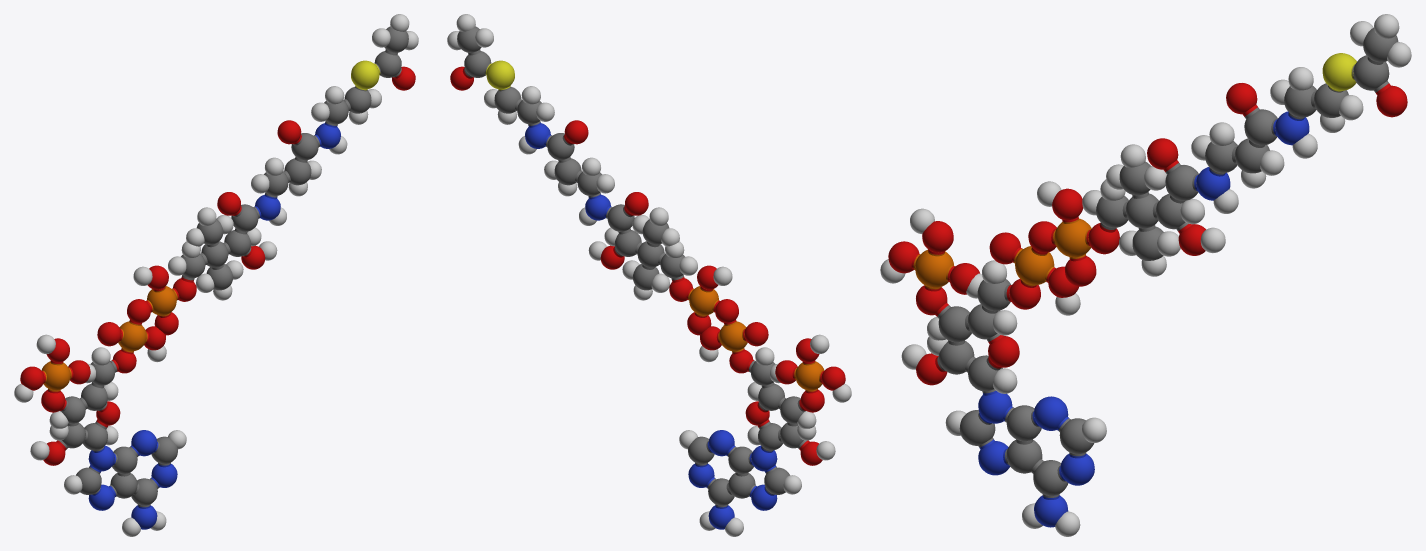
The model's file is molecule.fbx.
The picture shows the model from 3 angles, left to right: view 1: azimuth 30°, elevation 25°; view 2: azimuth 150°, elevation 25°; view 3: azimuth 330°, elevation 25°; orthographic projection. The views are drawn at different scales.
Parts seen in each view (by area): view 1: node_id609, node_id605, node_id607, node_id603, node_id543, node_id511, node_id519, node_id549, node_id513, node_id563, node_id517, node_id535 (+12 smaller); view 2: node_id609, node_id605, node_id607, node_id603, node_id543, node_id511, node_id519, node_id549, node_id513, node_id563, node_id517, node_id535 (+12 smaller); view 3: node_id603, node_id605, node_id607, node_id609, node_id517, node_id525, node_id563, node_id539, node_id543, node_id553, node_id511, node_id527 (+39 smaller).
Part boxes in pixels (box(x1,y1,x2,y2)): node_id609: box(351, 60, 379, 89); node_id605: box(118, 321, 146, 351); node_id607: box(41, 361, 70, 390); node_id603: box(147, 286, 176, 315); node_id543: box(112, 446, 137, 473); node_id511: box(374, 51, 401, 77); node_id519: box(284, 158, 311, 185); node_id549: box(81, 383, 107, 410); node_id513: box(344, 87, 371, 113); node_id563: box(131, 430, 157, 456); node_id517: box(291, 133, 318, 160); node_id535: box(224, 230, 251, 256); node_id609: box(486, 60, 514, 89); node_id605: box(719, 321, 747, 351); node_id607: box(795, 361, 824, 390); node_id603: box(689, 286, 718, 315); node_id543: box(728, 446, 753, 473); node_id511: box(464, 51, 491, 77); node_id519: box(554, 158, 581, 185); node_id549: box(758, 383, 784, 410); node_id513: box(494, 87, 521, 113); node_id563: box(708, 430, 734, 456); node_id517: box(547, 133, 574, 160); node_id535: box(614, 230, 641, 256); node_id603: box(1054, 218, 1091, 257); node_id605: box(1015, 246, 1054, 285); node_id607: box(915, 249, 953, 287); node_id609: box(1322, 53, 1356, 90); node_id517: box(1244, 109, 1277, 145); node_id525: box(1165, 165, 1198, 200); node_id563: box(1034, 396, 1068, 430); node_id539: box(1006, 440, 1042, 473); node_id543: box(1006, 405, 1041, 441); node_id553: box(938, 306, 971, 342); node_id511: box(1353, 55, 1389, 90); node_id527: box(1033, 460, 1068, 495).
Bounding box in the file's own units: 0.4727 × 0.512 × 0.0309.
